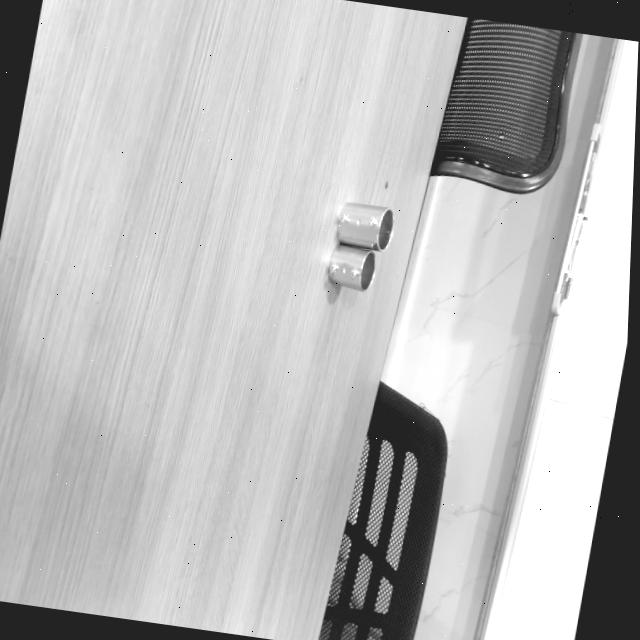Co_Lon: (334, 202, 394, 252)
Co_Nho: (324, 243, 377, 293)
